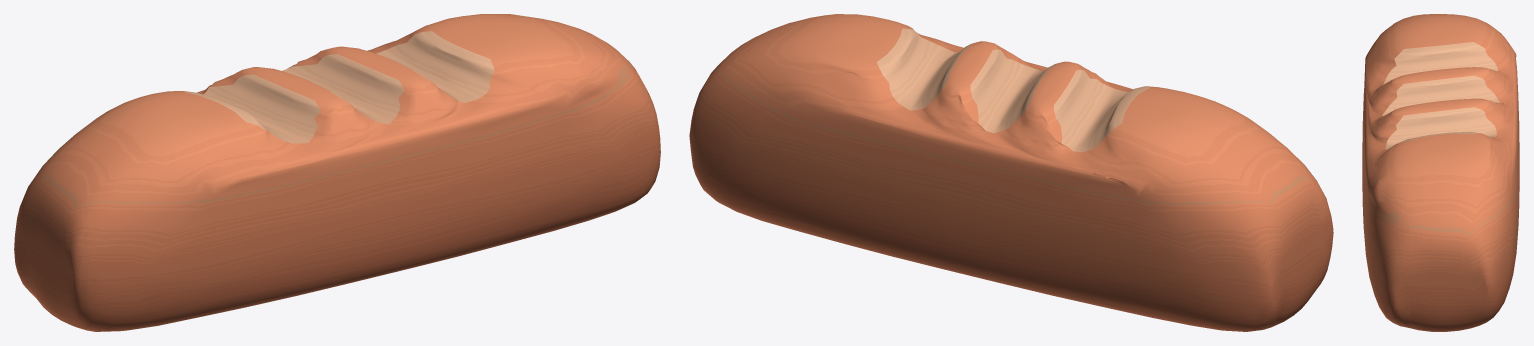
3 renders of one model, left to right at view 1: azimuth 30°, elevation 25°; view 2: azimuth 150°, elevation 25°; view 3: azimuth 270°, elevation 25°, orthographic. The views are drawn at different scales.
Bounding box in the file's own units: 1 × 0.3012 × 0.3012.
1 material, 1 textured.
